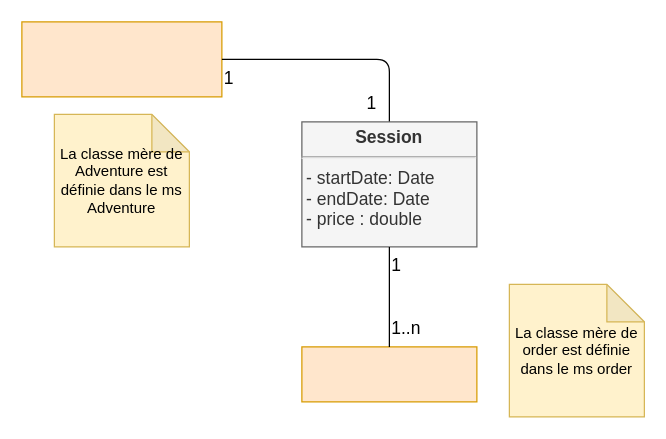
This 666x439 diagram has some shape labels left out. The centre of each missing label's shape, as x and y in pixels:
"Adventure" belongs at pixel 121 59.
"Order" belongs at pixel 389 374.
